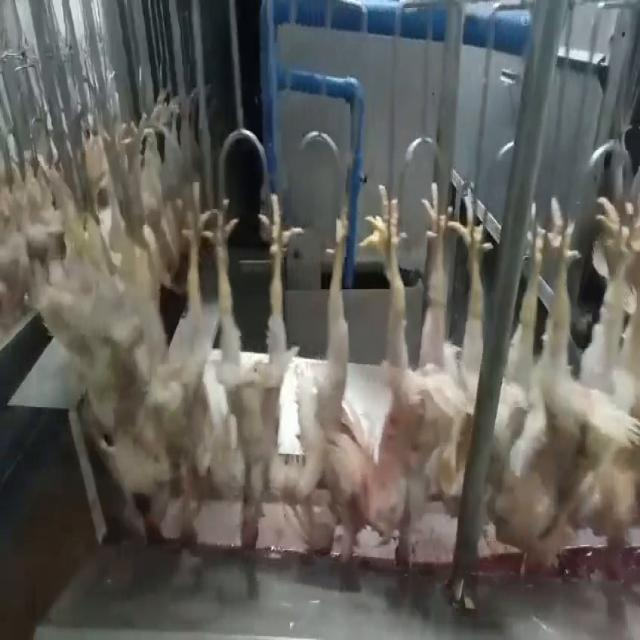chicken: (243, 186, 361, 564), (122, 186, 235, 550), (485, 192, 582, 582), (369, 183, 453, 578), (574, 186, 639, 564), (439, 198, 488, 518), (67, 186, 123, 428)
